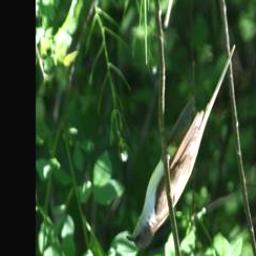Cuckoo: (127, 42, 237, 251)
